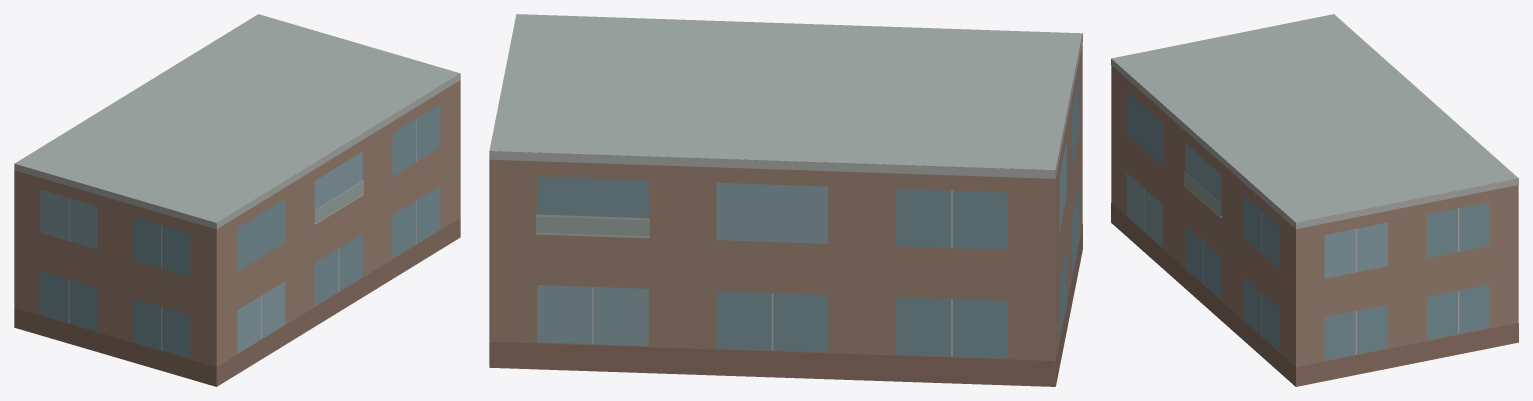
The model's file is survey-upis-32704804.glb.
3 views of the same model, side by side, from view 1: azimuth 30°, elevation 25°; view 2: azimuth 150°, elevation 25°; view 3: azimuth 270°, elevation 25° (orthographic). The views are drawn at different scales.
Visible parts, largest first — view 1: survey-upis-32704804.tmp; view 2: survey-upis-32704804.tmp; view 3: survey-upis-32704804.tmp.
Part boxes in pixels (left/top/right/bottom): survey-upis-32704804.tmp: left=14, top=14, right=460, bottom=386; survey-upis-32704804.tmp: left=489, top=14, right=1082, bottom=386; survey-upis-32704804.tmp: left=1111, top=14, right=1518, bottom=386.
Size of the model in its own units: 16.64 by 6.1 by 13.74.
